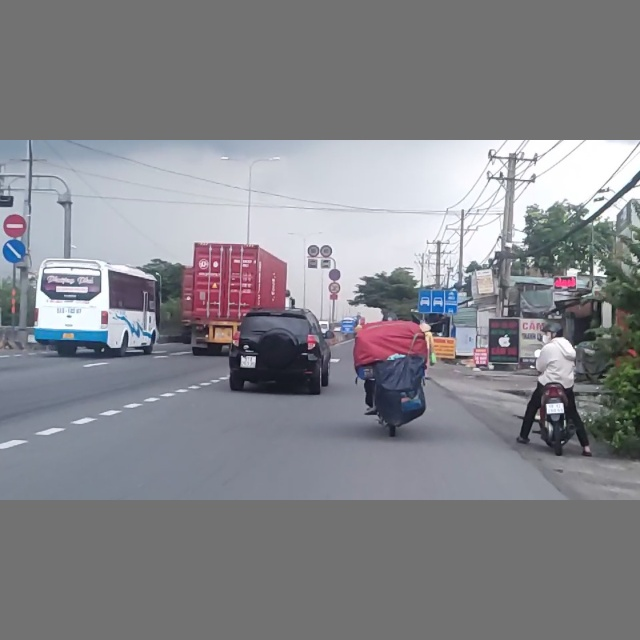P.102: (3, 213, 26, 236)
P.130: (328, 269, 341, 281)
R.302a: (2, 237, 28, 265)
R.415a: (418, 289, 458, 314)
